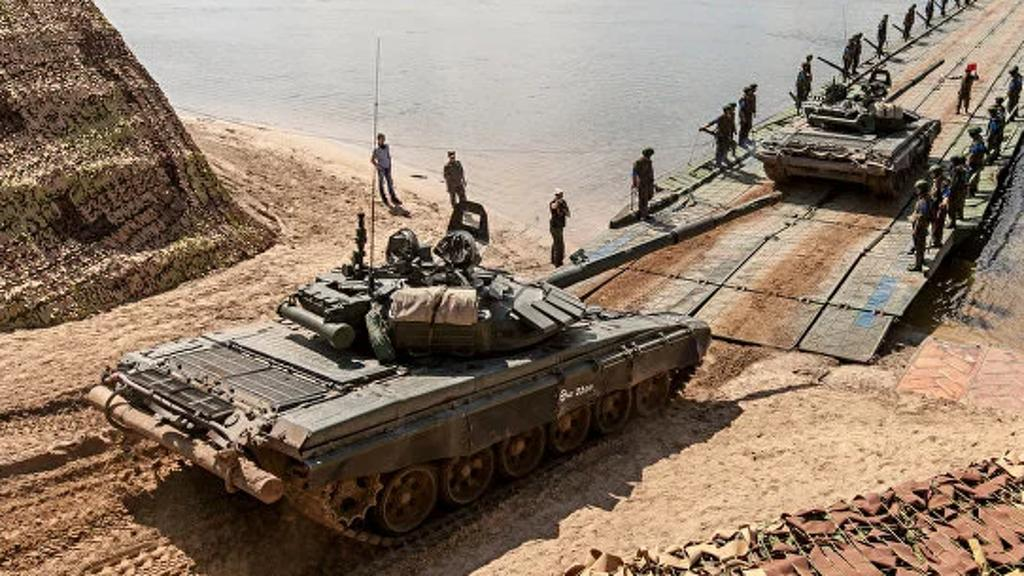TANK: (85, 190, 789, 557), (757, 57, 946, 188)
